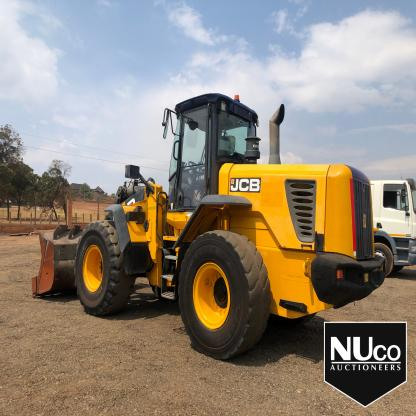bull_dozer/loader/grader: (33, 80, 392, 374)
